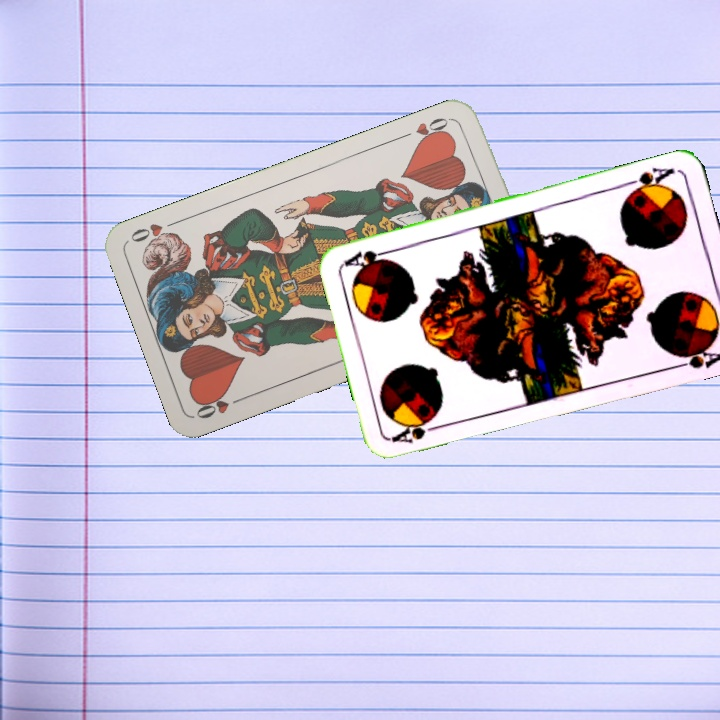HO: (398, 113, 455, 147), (192, 389, 249, 422)
SA: (621, 163, 677, 198), (388, 413, 446, 446)
